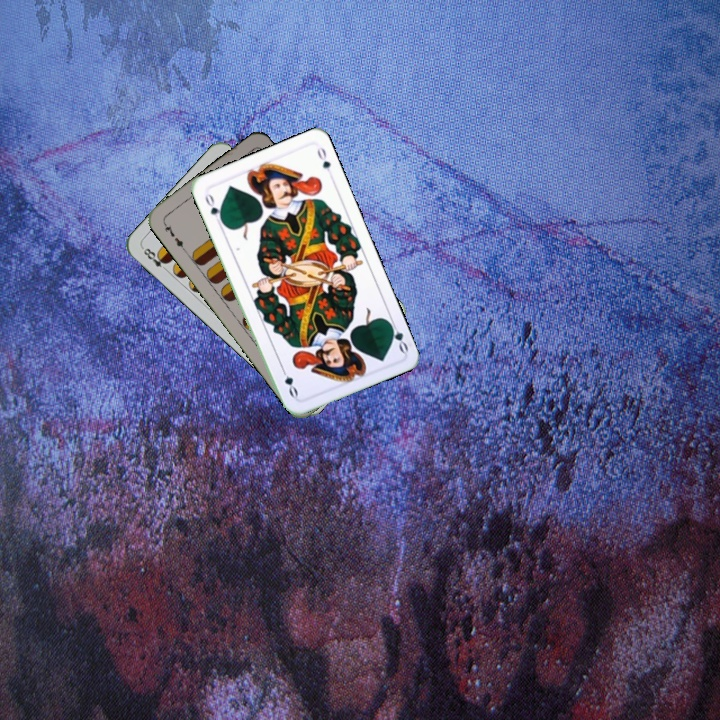E7: (159, 218, 188, 254)
E8: (138, 243, 171, 275)
GO: (384, 316, 411, 355), (201, 190, 226, 226)
